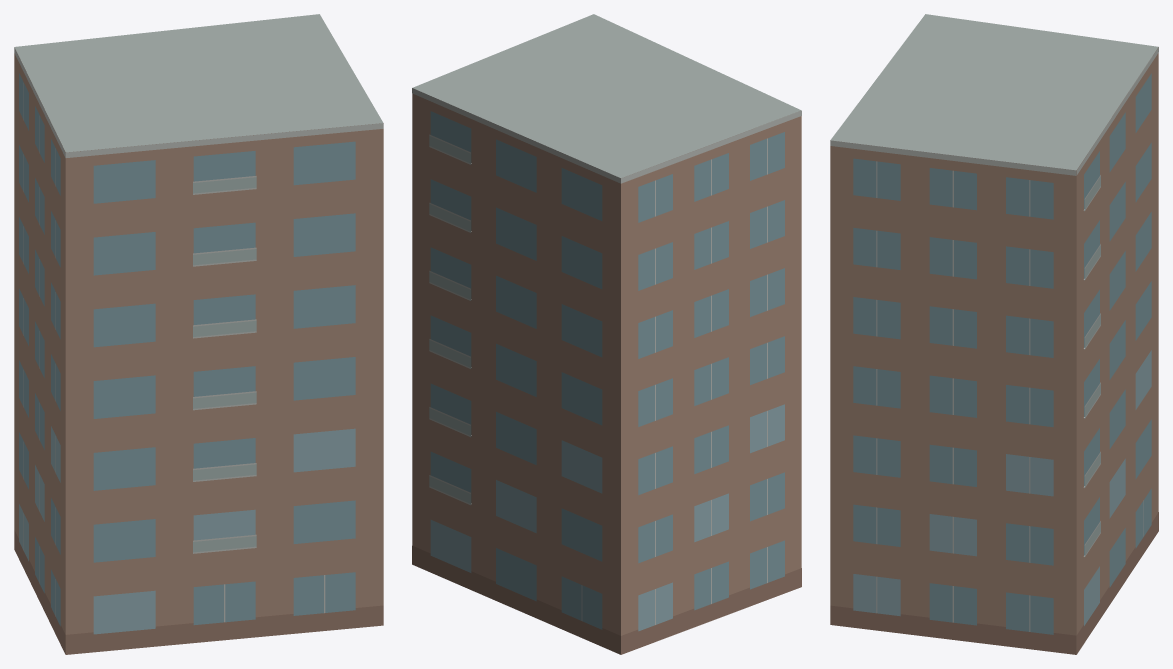
File: survey-upis-32633994.glb
3 views of the same model, side by side, from view 1: azimuth 30°, elevation 25°; view 2: azimuth 150°, elevation 25°; view 3: azimuth 270°, elevation 25° (orthographic). The views are drawn at different scales.
Parts seen in each view (by area): view 1: survey-upis-32633994.tmp; view 2: survey-upis-32633994.tmp; view 3: survey-upis-32633994.tmp.
Boxes of the visible parts, bbox=[...] form: survey-upis-32633994.tmp: bbox=[14, 14, 383, 654]; survey-upis-32633994.tmp: bbox=[412, 14, 801, 654]; survey-upis-32633994.tmp: bbox=[830, 14, 1158, 654].
Size of the model in its own units: 14.79 by 21.35 by 13.13.
